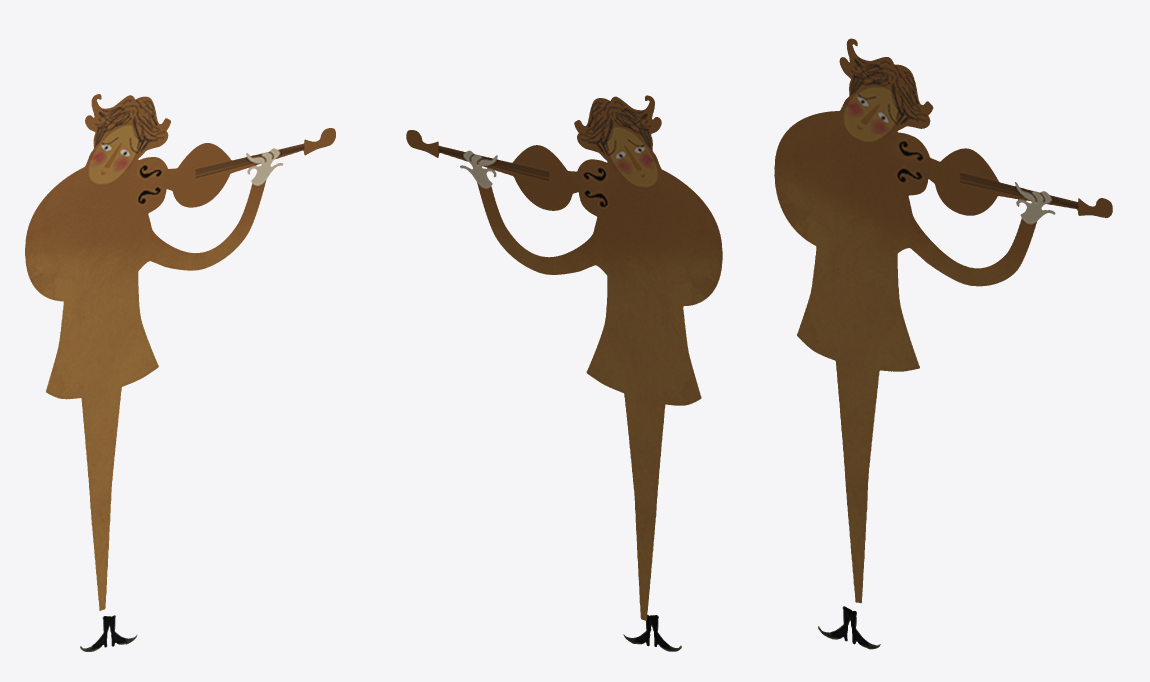
Rendered from Violinista_Content.fbx.
The picture shows the model from 3 angles, left to right: view 1: azimuth 30°, elevation 25°; view 2: azimuth 150°, elevation 25°; view 3: azimuth 330°, elevation 25°; orthographic projection. The views are drawn at different scales.
Visible parts, largest first — view 1: polySurface9; view 2: polySurface9; view 3: polySurface9.
Part boxes in pixels (<box>): polySurface9: <box>25,94,335,651</box>; polySurface9: <box>406,95,722,651</box>; polySurface9: <box>774,38,1112,649</box>.
Bounding box in the file's own units: 1421 × 2295 × 53.32.
